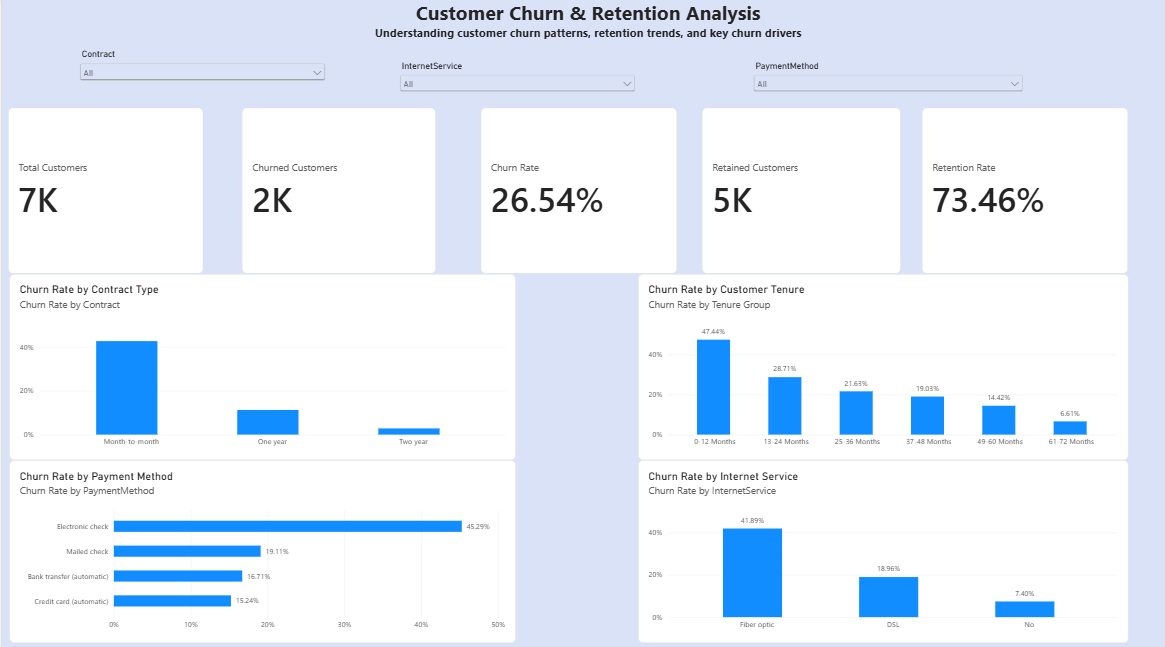

Layout of this report page (visuals, bound fields, positions):
{"tool":"powerbi","page":{"name":"Churn Dashboard","canvas":[1920,1080],"ordinal":1},"visuals":[{"type":"textbox","box":[10.3,0,1910.1,80.3],"z":0},{"type":"cardVisual","fields":{"Data":["WA_Fn-UseC_-Telco-Customer-Churn.Total Customers"]},"box":[10.3,179.1,321.1,273.8],"z":1},{"type":"cardVisual","fields":{"Data":["WA_Fn-UseC_-Telco-Customer-Churn.Churned Customers"]},"box":[395.2,179.1,319,273.8],"z":2},{"type":"cardVisual","fields":{"Data":["WA_Fn-UseC_-Telco-Customer-Churn.Churn Rate"]},"box":[788.3,179.1,323.2,273.8],"z":3},{"type":"cardVisual","fields":{"Data":["WA_Fn-UseC_-Telco-Customer-Churn.Retained Customers"]},"box":[1152.7,179.1,327.3,273.8],"z":4},{"type":"cardVisual","fields":{"Data":["WA_Fn-UseC_-Telco-Customer-Churn.Retention Rate"]},"box":[1514.9,179.1,339.6,273.8],"z":5},{"type":"clusteredColumnChart","title":"Churn Rate by Contract Type","fields":{"Category":["WA_Fn-UseC_-Telco-Customer-Churn.Contract"],"Y":["WA_Fn-UseC_-Telco-Customer-Churn.Churn Rate"]},"box":[12.3,452.8,833.6,306.7],"z":6},{"type":"clusteredColumnChart","title":"Churn Rate by Customer Tenure","fields":{"Category":["WA_Fn-UseC_-Telco-Customer-Churn.Tenure Group"],"Y":["WA_Fn-UseC_-Telco-Customer-Churn.Churn Rate"]},"box":[1047.7,452.8,806.9,306.7],"z":7},{"type":"clusteredBarChart","title":"Churn Rate by Payment Method","fields":{"Category":["WA_Fn-UseC_-Telco-Customer-Churn.PaymentMethod"],"Y":["WA_Fn-UseC_-Telco-Customer-Churn.Churn Rate"]},"box":[12.3,759.5,833.6,300.5],"z":8},{"type":"clusteredColumnChart","title":"Churn Rate by Internet Service","fields":{"Category":["WA_Fn-UseC_-Telco-Customer-Churn.InternetService"],"Y":["WA_Fn-UseC_-Telco-Customer-Churn.Churn Rate"]},"box":[1047.7,759.5,806.9,300.5],"z":9},{"type":"slicer","fields":{"Values":["WA_Fn-UseC_-Telco-Customer-Churn.Contract"]},"box":[123.5,82.3,413.7,98.8],"z":10},{"type":"slicer","fields":{"Values":["WA_Fn-UseC_-Telco-Customer-Churn.InternetService"]},"box":[650.4,100.9,397.3,78.2],"z":11},{"type":"slicer","fields":{"Values":["WA_Fn-UseC_-Telco-Customer-Churn.PaymentMethod"]},"box":[1232.9,100.9,452.8,80.3],"z":12},{"type":"textbox","box":[1568,0,287,150],"z":13},{"type":"textbox","box":[876.8,452.8,897.4,86.4],"z":14},{"type":"textbox","box":[903.6,539.3,144.1,197.6],"z":15}]}

Visuals, with their boxes in screenshot pixels (x1, y1, x2, y2), scaled from the page's 1920x1080 canvas onto the 1165x647 screenshot:
textbox: <bbox>6, 0, 1164, 48</bbox>
cardVisual - WA_Fn-UseC_-Telco-Customer-Churn.Total Customers: <bbox>6, 107, 201, 271</bbox>
cardVisual - WA_Fn-UseC_-Telco-Customer-Churn.Churned Customers: <bbox>240, 107, 433, 271</bbox>
cardVisual - WA_Fn-UseC_-Telco-Customer-Churn.Churn Rate: <bbox>478, 107, 674, 271</bbox>
cardVisual - WA_Fn-UseC_-Telco-Customer-Churn.Retained Customers: <bbox>699, 107, 898, 271</bbox>
cardVisual - WA_Fn-UseC_-Telco-Customer-Churn.Retention Rate: <bbox>919, 107, 1125, 271</bbox>
"Churn Rate by Contract Type" clusteredColumnChart: <bbox>7, 271, 513, 455</bbox>
"Churn Rate by Customer Tenure" clusteredColumnChart: <bbox>636, 271, 1125, 455</bbox>
"Churn Rate by Payment Method" clusteredBarChart: <bbox>7, 455, 513, 635</bbox>
"Churn Rate by Internet Service" clusteredColumnChart: <bbox>636, 455, 1125, 635</bbox>
slicer - WA_Fn-UseC_-Telco-Customer-Churn.Contract: <bbox>75, 49, 326, 108</bbox>
slicer - WA_Fn-UseC_-Telco-Customer-Churn.InternetService: <bbox>395, 60, 636, 107</bbox>
slicer - WA_Fn-UseC_-Telco-Customer-Churn.PaymentMethod: <bbox>748, 60, 1023, 109</bbox>
textbox: <bbox>951, 0, 1126, 90</bbox>
textbox: <bbox>532, 271, 1077, 323</bbox>
textbox: <bbox>548, 323, 636, 441</bbox>
